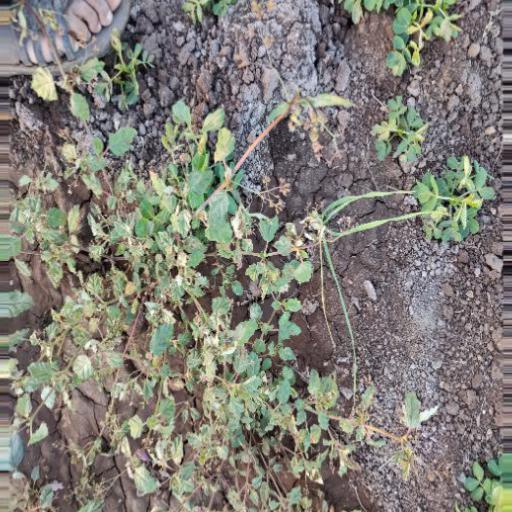weed: (17, 76, 404, 500)
